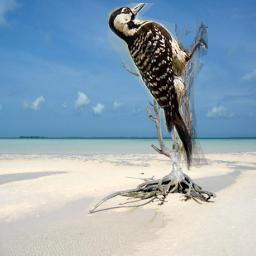Woodpecker: (108, 3, 208, 171)
